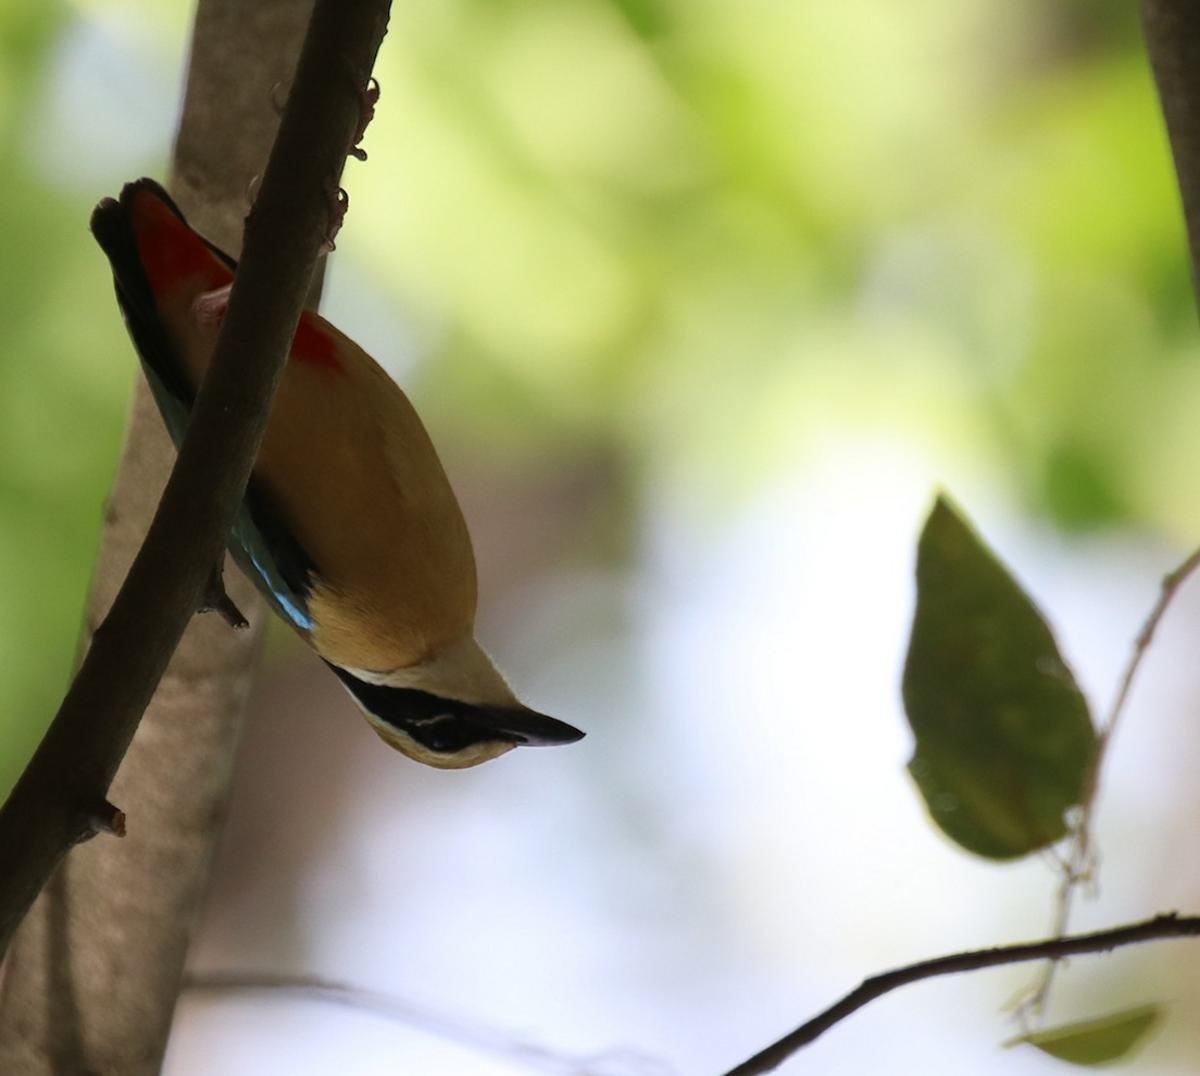pitta: (137, 238, 609, 802)
